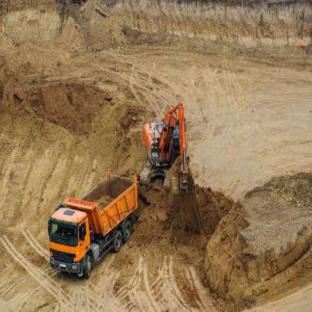ExcavationMachinery: (134, 100, 198, 203)
Vehicle: (42, 172, 167, 278)
